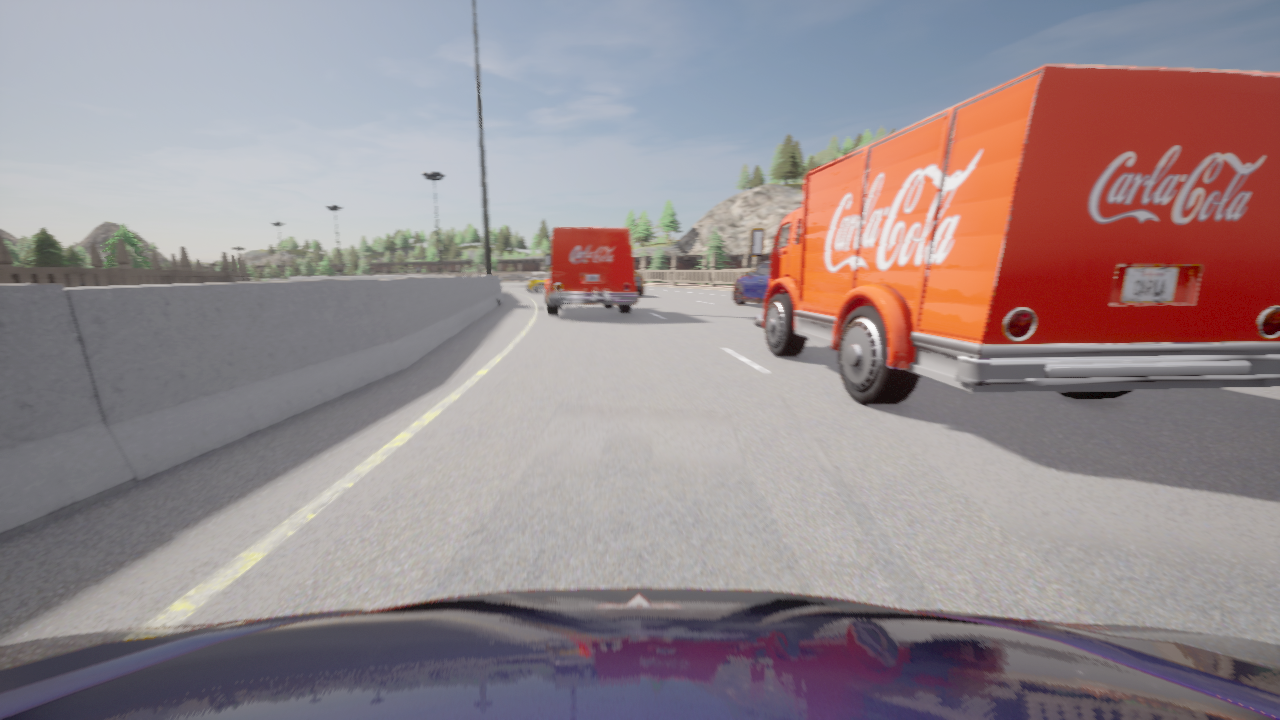cyclist: (751, 63, 1279, 404), (0, 588, 1279, 719), (544, 227, 638, 315), (734, 260, 770, 304), (527, 272, 548, 292), (634, 270, 644, 295)
